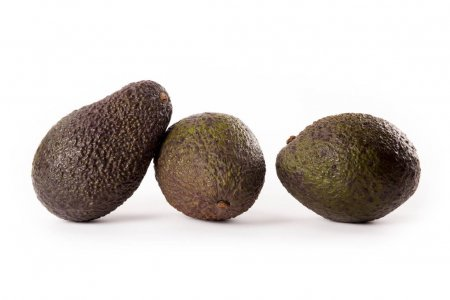fit_avocado: (18, 76, 176, 222), (272, 101, 425, 227)
